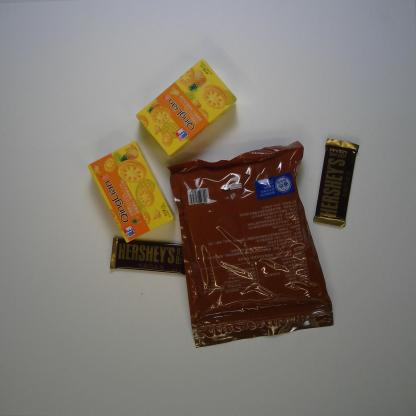Chocolate: (312, 138, 360, 228), (109, 237, 189, 276)
Dessert: (135, 57, 237, 156), (87, 140, 175, 244)
Dried Food: (166, 139, 335, 349)
